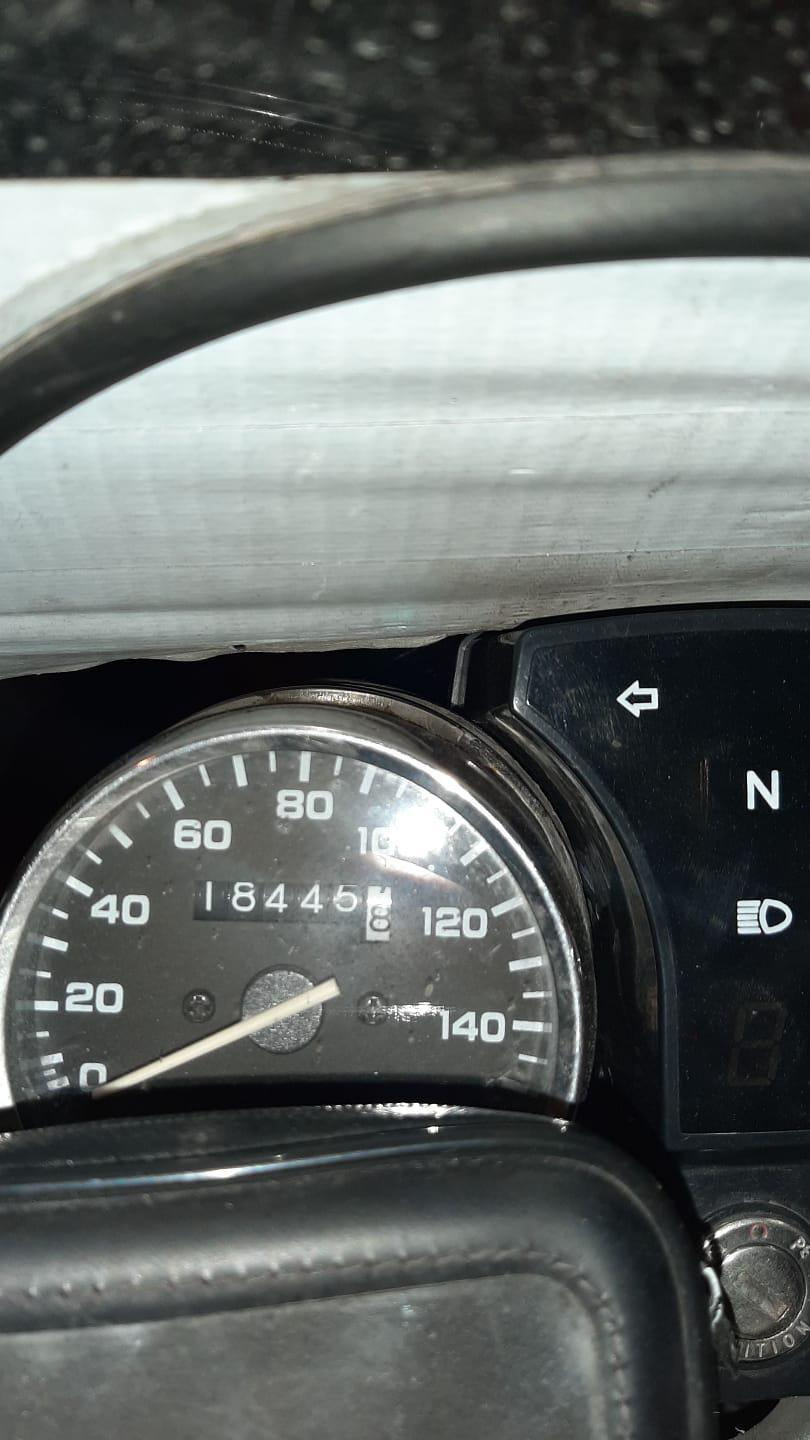1: (200, 879, 216, 913)
4: (262, 880, 291, 915), (297, 881, 324, 916)
5: (332, 881, 359, 915)
8: (229, 879, 258, 914), (367, 902, 393, 934)
odometer: (185, 873, 400, 947)
